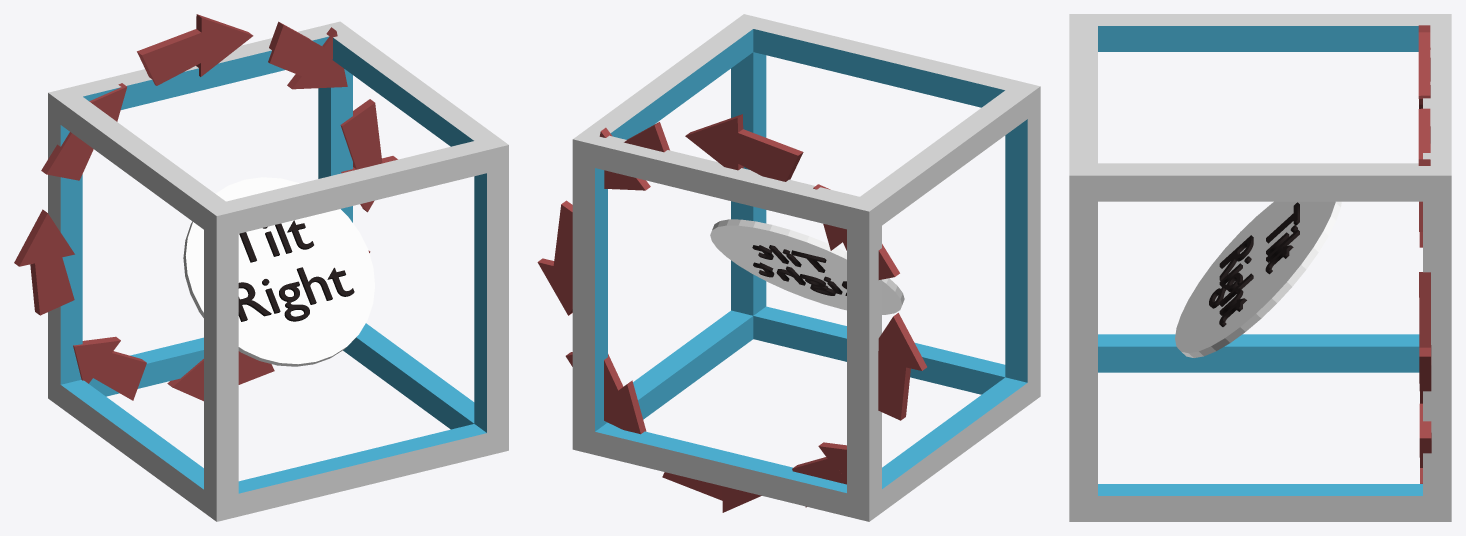
The model's file is TiltRight.glb.
3 renders of one model, left to right at view 1: azimuth 30°, elevation 25°; view 2: azimuth 150°, elevation 25°; view 3: azimuth 270°, elevation 25°, orthographic. The views are drawn at different scales.
Visible parts, largest first — view 1: Cube, Cylinder, Cylinder.001, Text; view 2: Cube, Cylinder, Cylinder.001, Text; view 3: Cube, Cylinder.001, Cylinder, Text.
Boxes of the visible parts, <box> form: Cube: <box>48,21,508,521</box>; Cylinder: <box>14,14,397,401</box>; Cylinder.001: <box>183,177,374,366</box>; Text: <box>238,220,354,321</box>; Cube: <box>572,14,1040,521</box>; Cylinder: <box>537,114,926,512</box>; Cylinder.001: <box>710,219,904,314</box>; Text: <box>752,245,846,295</box>; Cube: <box>1069,14,1451,521</box>; Cylinder.001: <box>1175,201,1341,357</box>; Cylinder: <box>1418,25,1431,483</box>; Text: <box>1209,202,1299,326</box>.
Bounding box in the file's own units: 2.6 × 2.57 × 2.
